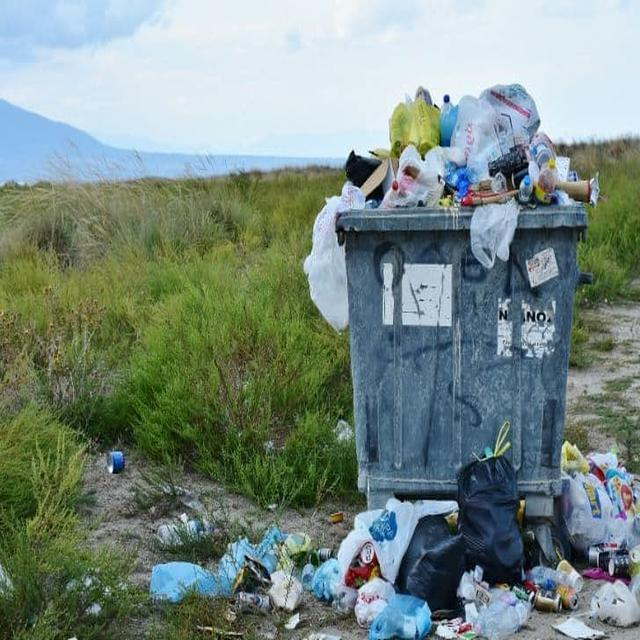garbage: (320, 454, 632, 636), (342, 76, 583, 214), (131, 521, 341, 627)
